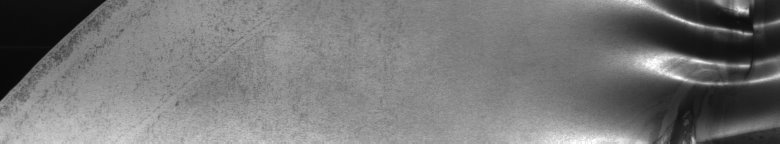ke: (628, 4, 776, 136)
